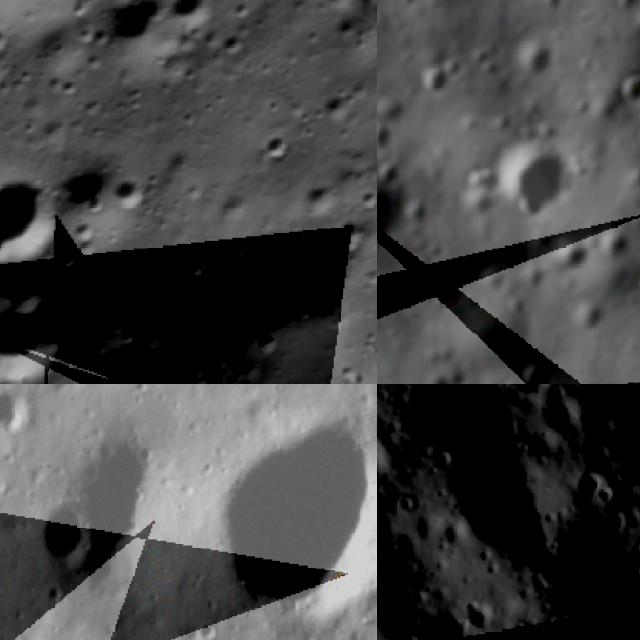crater: (200, 400, 377, 631), (68, 430, 165, 599), (445, 455, 558, 573), (486, 130, 588, 218), (0, 159, 75, 277), (0, 299, 74, 384), (563, 527, 640, 602), (29, 501, 97, 573), (377, 181, 413, 255), (563, 296, 619, 340), (513, 38, 566, 82), (592, 223, 640, 268), (313, 87, 358, 130), (554, 240, 602, 280), (541, 395, 585, 438), (165, 0, 217, 34), (0, 384, 30, 442), (519, 347, 565, 384), (415, 63, 462, 99), (257, 126, 295, 166), (330, 220, 368, 260), (462, 598, 502, 636), (110, 180, 148, 217), (308, 183, 344, 220), (377, 118, 410, 157), (250, 328, 285, 362), (424, 446, 462, 474), (503, 384, 565, 400), (441, 611, 475, 640), (377, 435, 396, 484), (592, 618, 631, 640), (177, 361, 214, 384), (569, 614, 598, 640), (622, 67, 640, 107), (48, 384, 90, 401), (191, 618, 222, 640), (594, 482, 620, 508), (359, 183, 377, 209), (509, 632, 542, 640), (418, 631, 439, 640)
